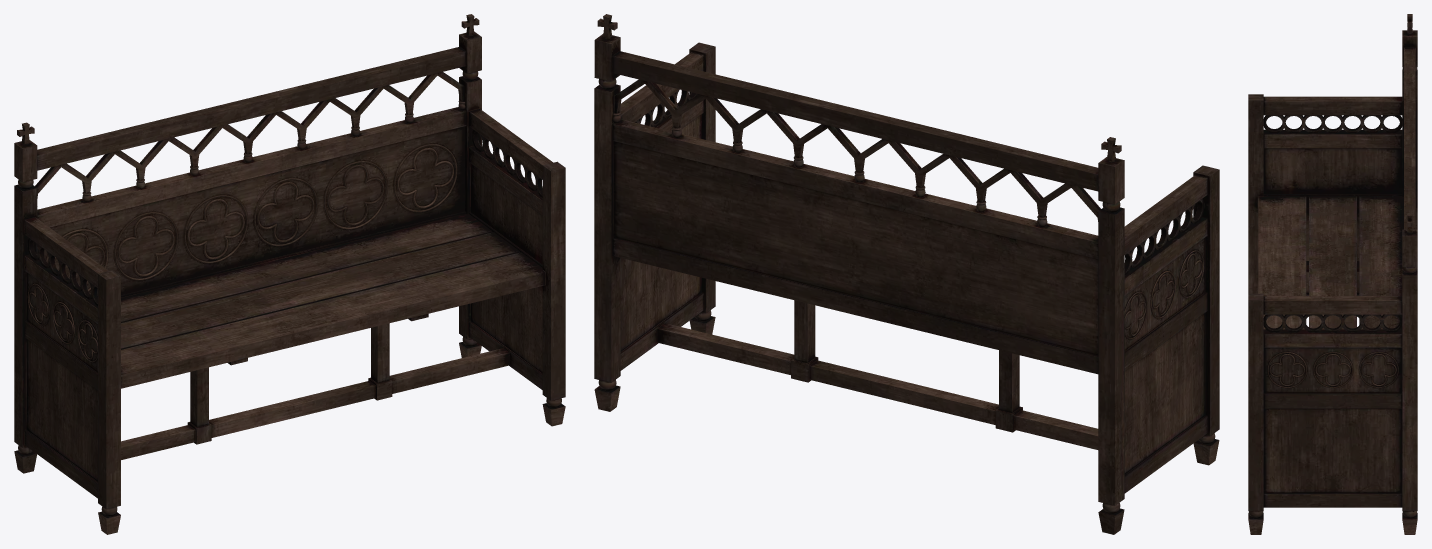
The model's file is banco glb.draco.glb.
The picture shows the model from 3 angles, left to right: view 1: azimuth 30°, elevation 25°; view 2: azimuth 150°, elevation 25°; view 3: azimuth 270°, elevation 25°; orthographic projection. The views are drawn at different scales.
Visible parts, largest first — view 1: Cube002, Cube003; view 2: Cube002, Cube003; view 3: Cube002, Cube003.
Part boxes in pixels (x1=…): Cube002: x1=14, y1=14, x2=565, y2=534; Cube003: x1=27, y1=144, x2=457, y2=362; Cube002: x1=594, y1=14, x2=1219, y2=534; Cube003: x1=1124, y1=250, x2=1203, y2=339; Cube002: x1=1248, y1=14, x2=1417, y2=534; Cube003: x1=1267, y1=352, x2=1398, y2=387.
Bounding box in the file's own units: 1.79 × 1.29 × 0.6232.
2 materials, 2 textured.
